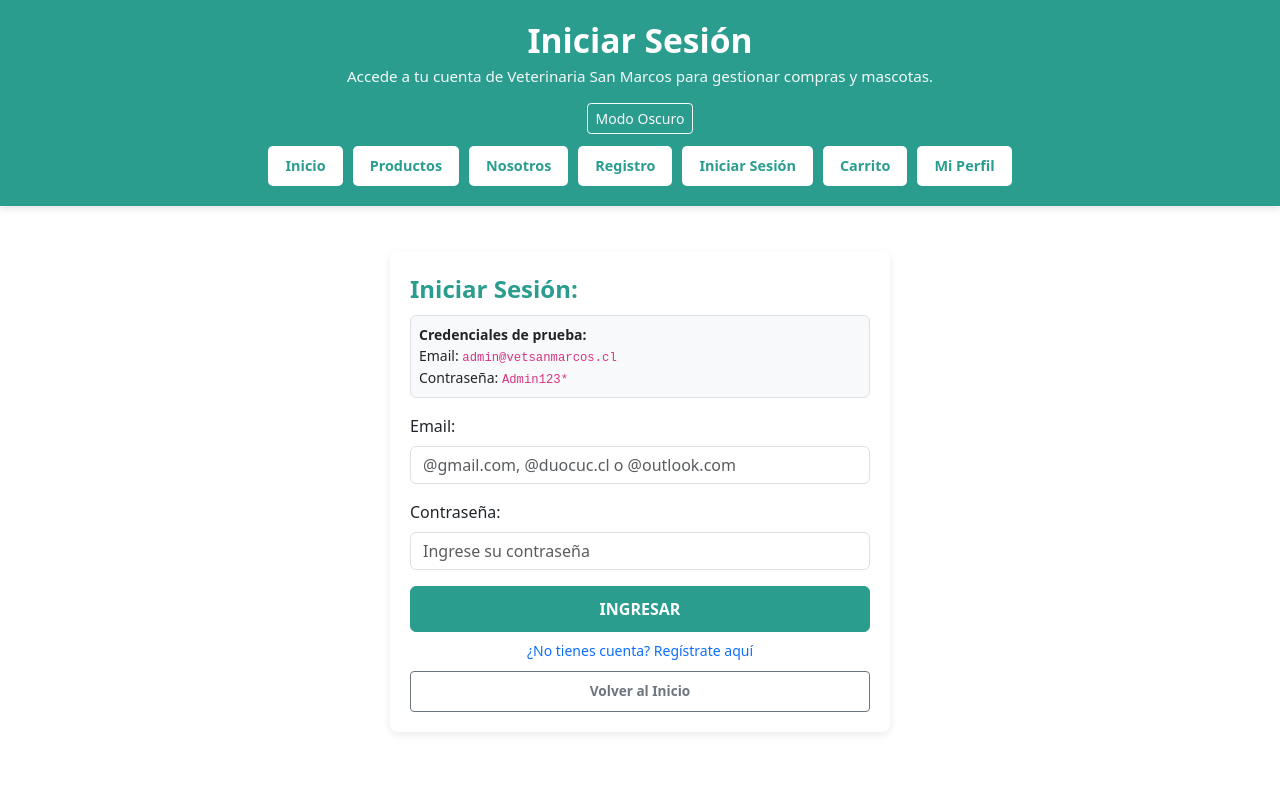
Test: Login › Autenticación exitosa con credenciales correctas guardando datos en localStorage
This screenshot has width=1280, height=800.
# Act (Acción)
Type "admin@vetsanmarcos.cl" into the field labelled "Email:".
click(640, 466); type("admin@vetsanmarcos.cl")  # box [410,446,870,484]
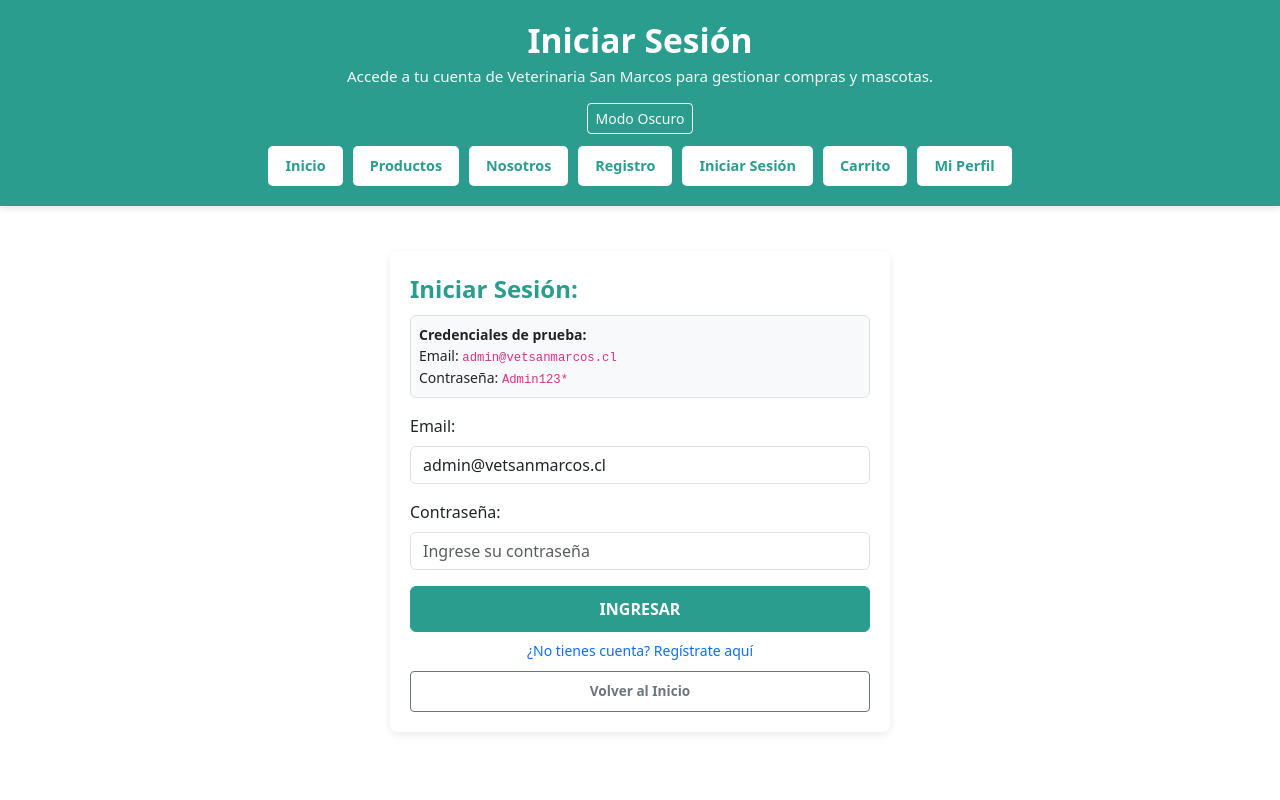
Type "Admin123*" into the password field labelled "Contraseña:".
click(640, 552); type("Admin123*")  # box [410,532,870,570]
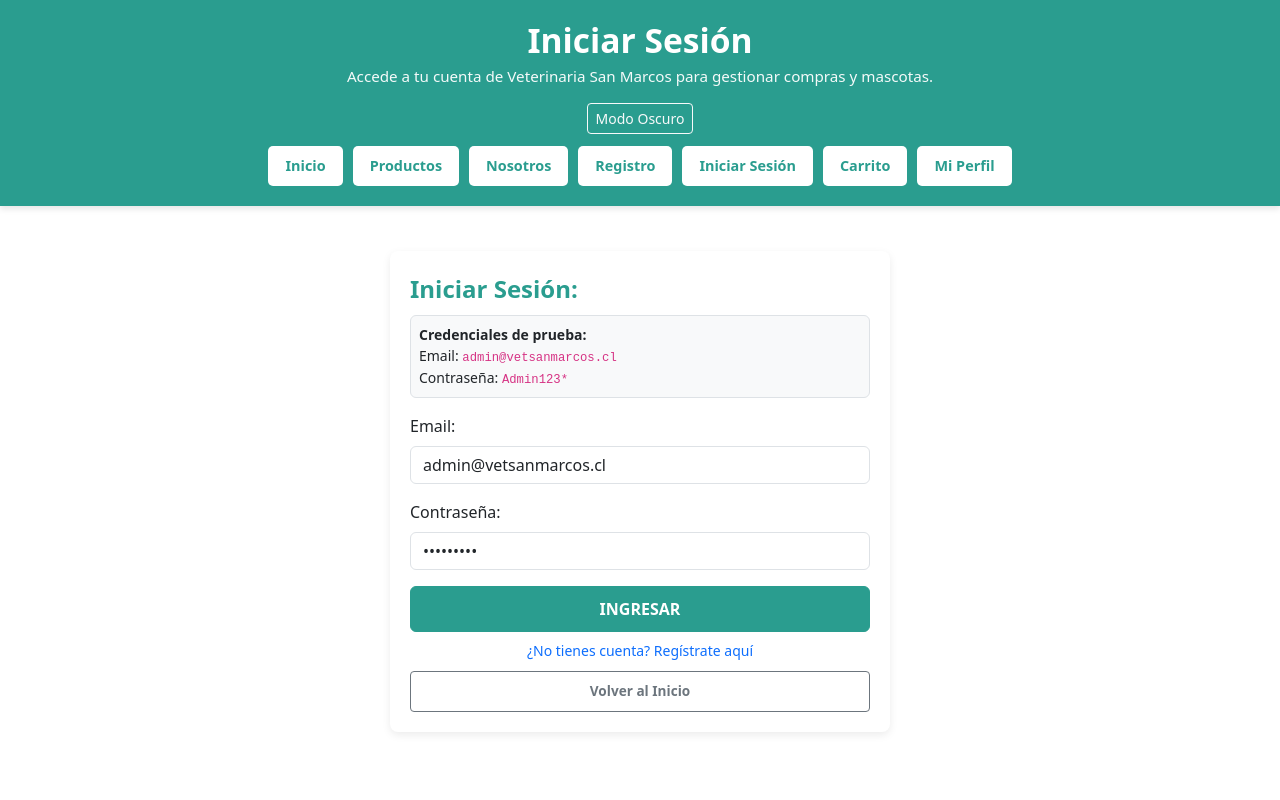
Click the button "INGRESAR".
click(640, 610)  # box [410,586,870,632]
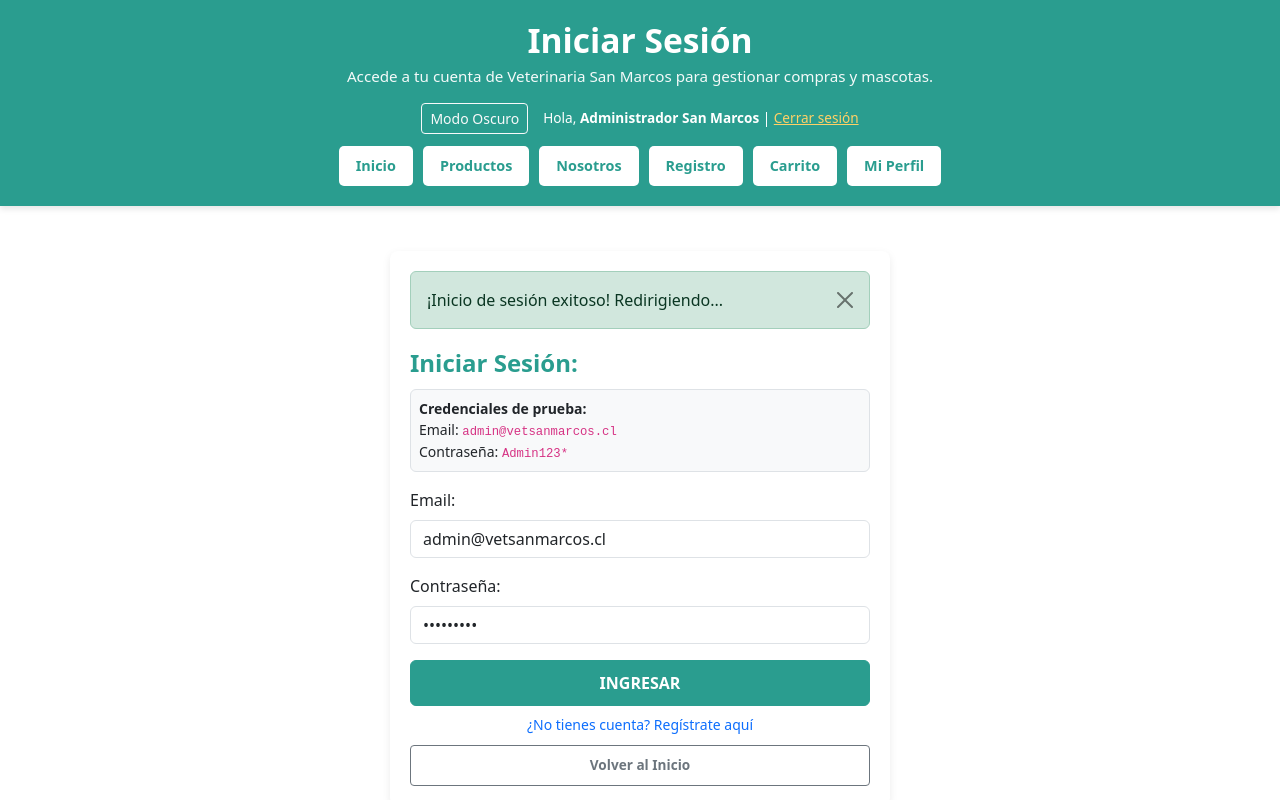
Expected: the text "admin@vetsanmarcos.cl" is shown, [462,425,617,439]
Result: the text "¡Inicio de sesión exitoso! Redirigiendo..." is shown at [410,271,870,329]
